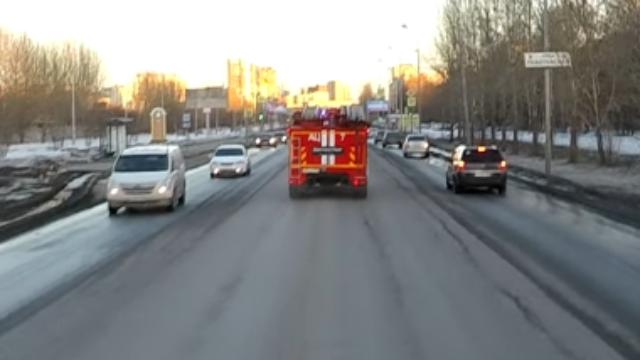fire fighting vehicle: (285, 107, 373, 204)
non emergency car: (107, 144, 189, 214), (445, 144, 511, 200), (208, 144, 254, 180), (403, 134, 434, 161), (253, 131, 280, 151)
